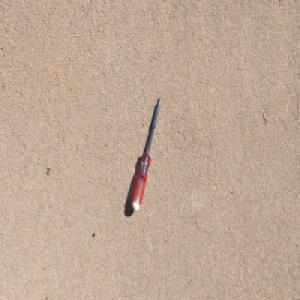Screwdriver: (130, 93, 162, 213)
